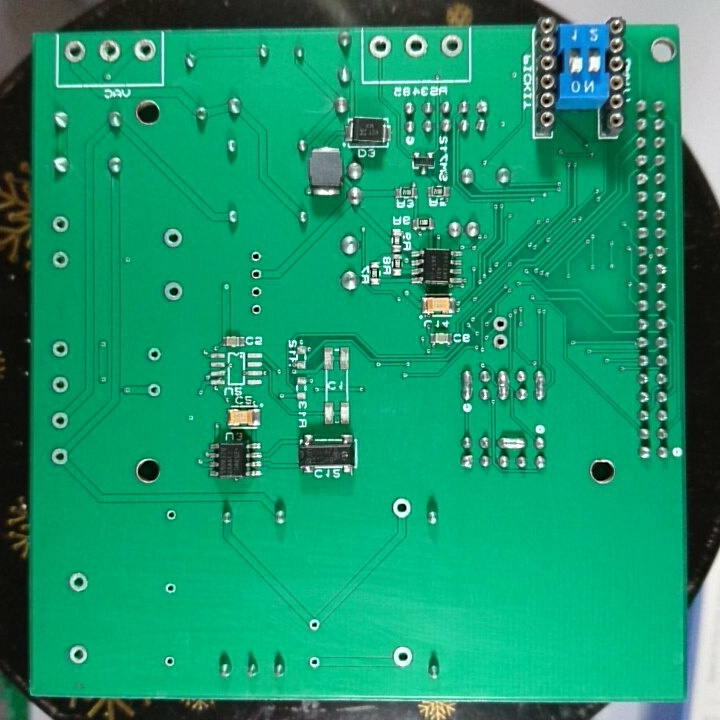F: (61, 37, 89, 66), (402, 31, 431, 59), (437, 32, 465, 60), (159, 279, 186, 307), (367, 32, 393, 60), (131, 36, 157, 63), (95, 38, 121, 64), (64, 642, 91, 667), (160, 225, 185, 251), (391, 643, 415, 670), (388, 496, 413, 521), (65, 570, 90, 595), (48, 337, 72, 360), (48, 248, 71, 272), (48, 374, 71, 397), (48, 446, 71, 468), (49, 409, 71, 432), (48, 213, 70, 236), (144, 343, 164, 366), (305, 652, 326, 672), (145, 379, 165, 400), (162, 578, 180, 600), (491, 332, 510, 351), (245, 247, 265, 265), (491, 314, 510, 332), (247, 300, 266, 318), (247, 283, 266, 301), (162, 505, 179, 525), (246, 266, 266, 282), (305, 614, 321, 633), (162, 652, 177, 671)
P: (496, 432, 528, 452), (532, 366, 548, 402), (459, 366, 474, 402), (494, 367, 509, 403)
